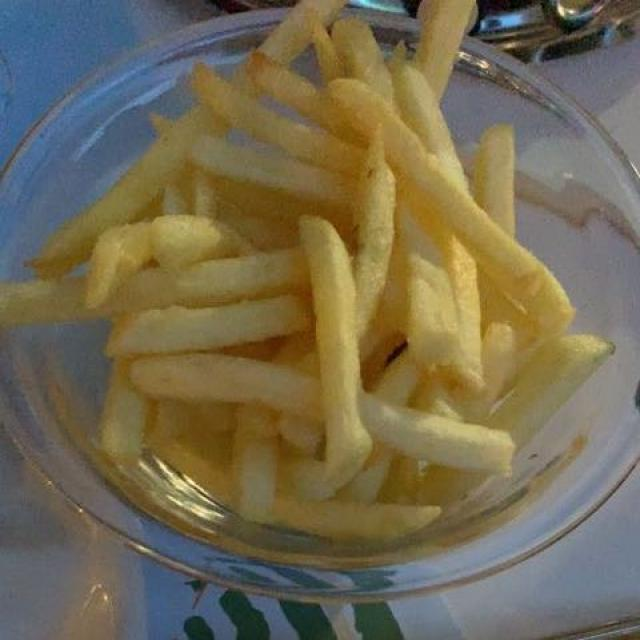chips-french-fries: (22, 11, 602, 543)
